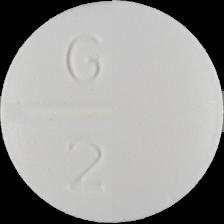55154-5406: (0, 0, 224, 224)
